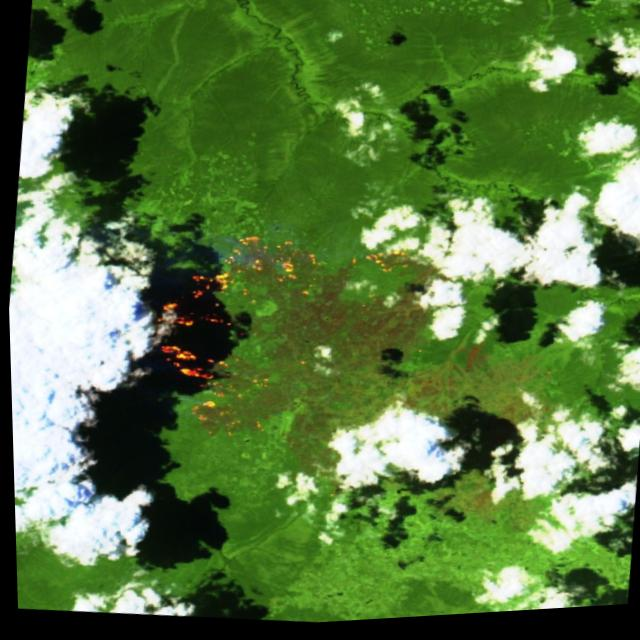fire: (128, 212, 439, 458)
